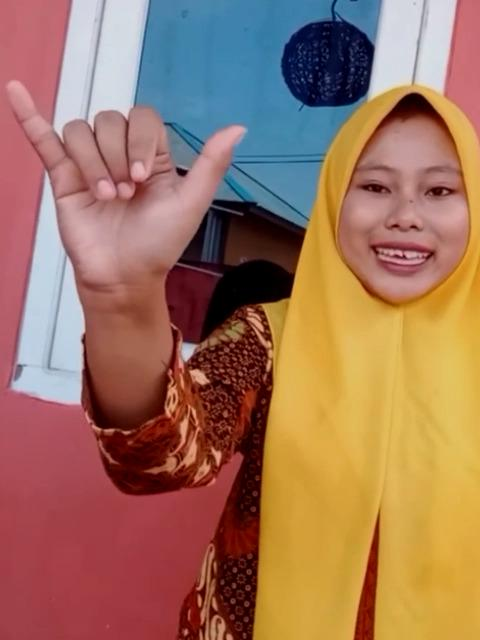Y: (0, 78, 250, 292)
